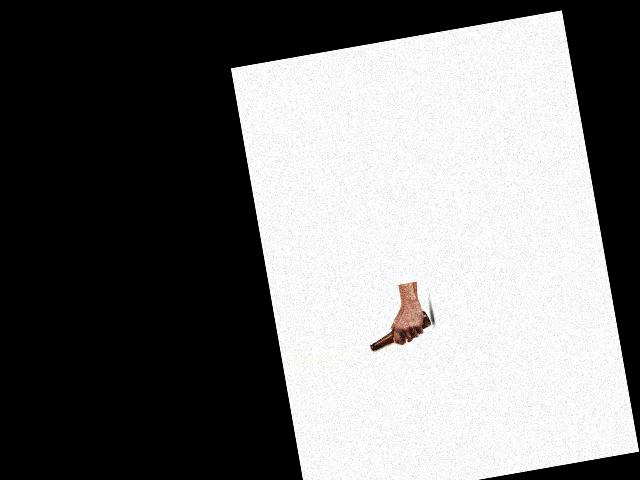beer: (366, 309, 435, 351)
